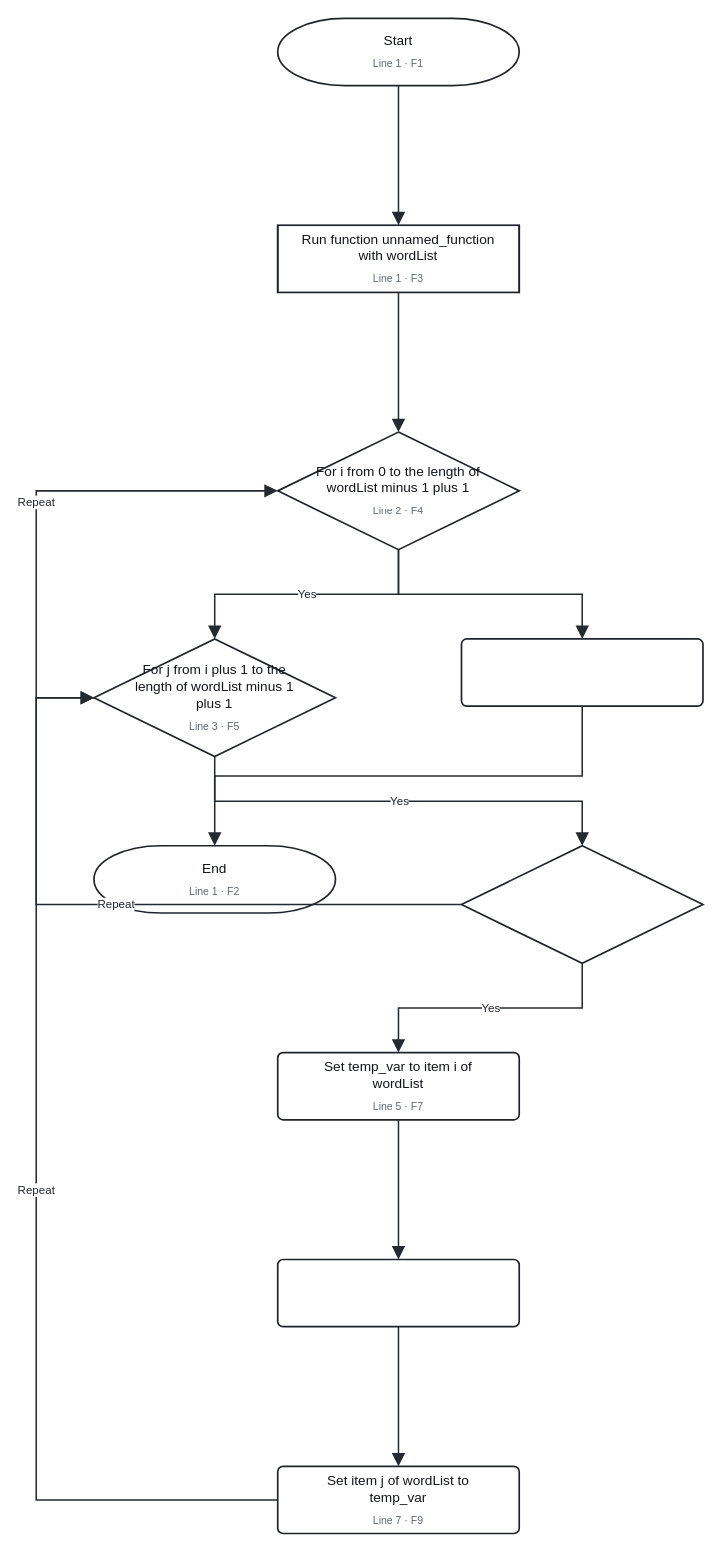
This 722x1553 diagram has some shape labels left out. The box of each missing label's shape, as (x1, y1, x2, y2) in pixels:
Item j of wordList is less than item i of wordList? Line 4 · F6: (460, 844, 703, 964)
Return wordList Line 12 · F10: (460, 638, 703, 706)
Set item i of wordList to item j of wordList Line 6 · F8: (276, 1258, 520, 1327)
